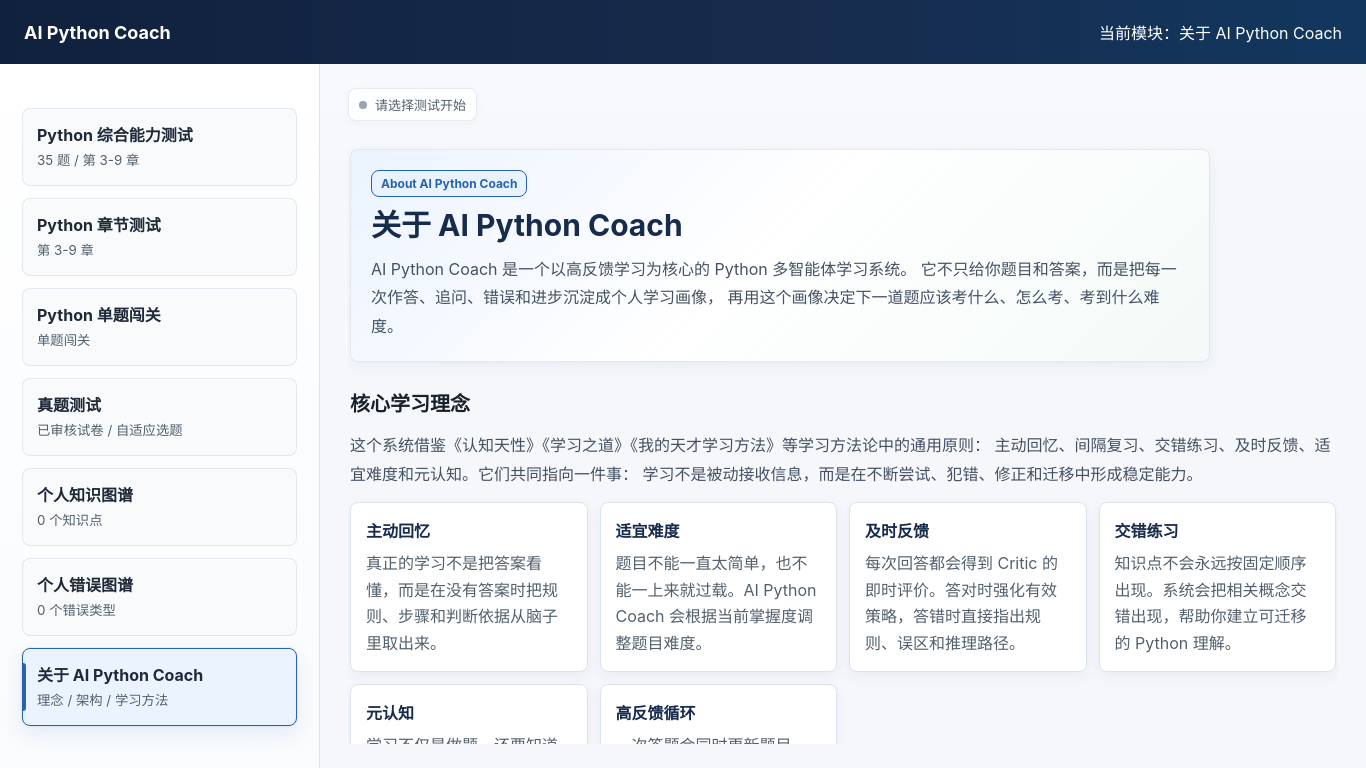
Test: LearningPage integration › uses non-alarming wording when the socket is resynchronizing
This screenshot has width=1366, height=768.
Click the button "Python 章节测试 第 3-9 章" at (160, 237), box [22, 198, 297, 276]
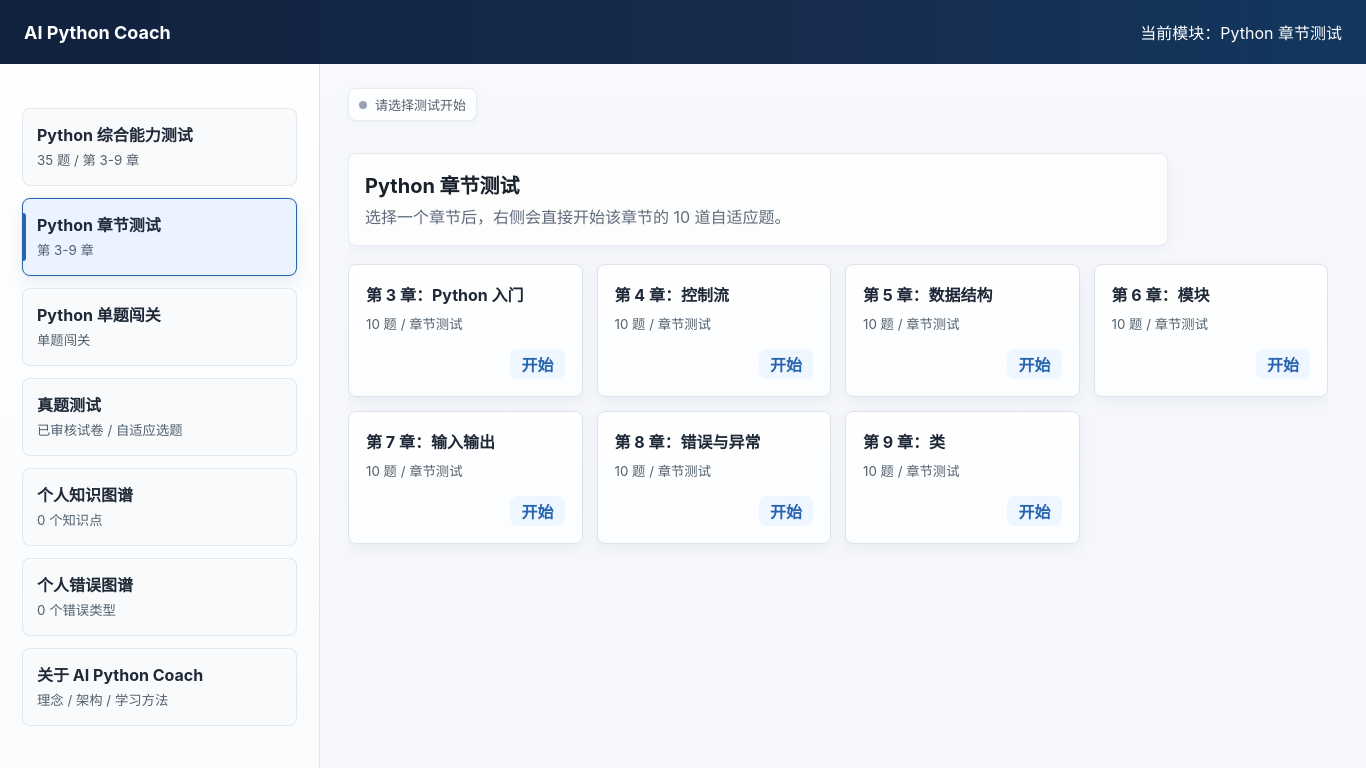
Check: the button with aria-label "开始 第 4 章：控制流" is enabled
Click the button with aria-label "开始 第 4 章：控制流" at (786, 364), box [759, 349, 813, 379]
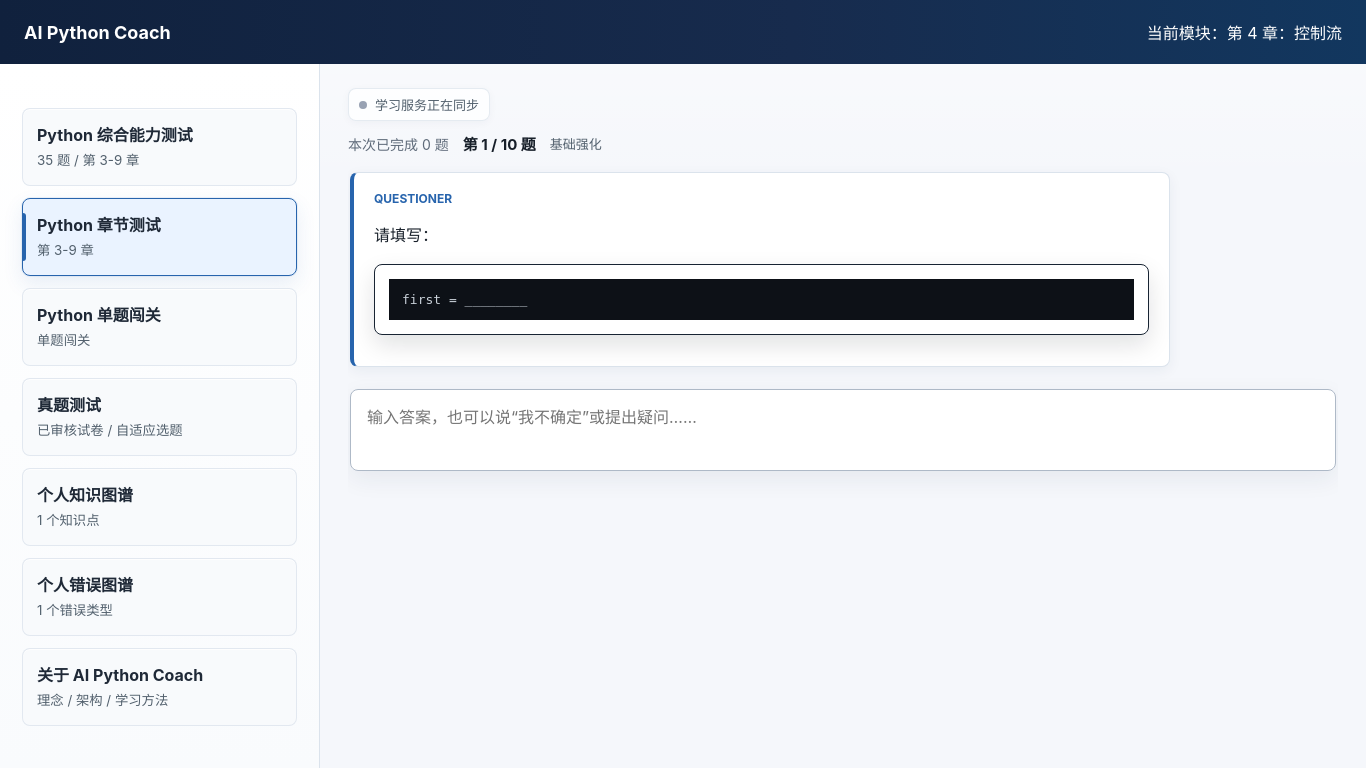
Check: the text "学习服务正在同步" is shown, box [375, 95, 479, 114]
